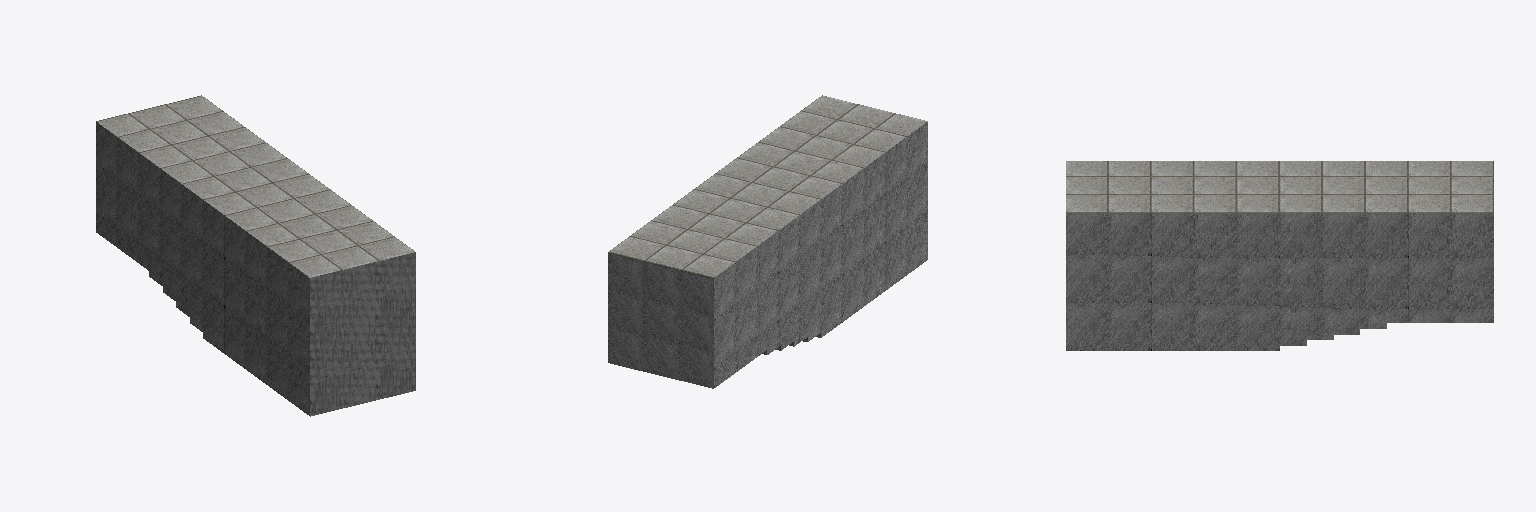
3 views of the same model, side by side, from view 1: azimuth 30°, elevation 25°; view 2: azimuth 150°, elevation 25°; view 3: azimuth 270°, elevation 25° (orthographic).
Visible parts, largest first — view 1: Cube; view 2: Cube; view 3: Cube.
Part boxes in pixels (left/top/right/bottom): Cube: left=96, top=95, right=415, bottom=416; Cube: left=608, top=95, right=927, bottom=388; Cube: left=1066, top=161, right=1493, bottom=350.
Bounding box in the file's own units: 4 × 5 × 14.
Materials: 7 (7 with a texture image).